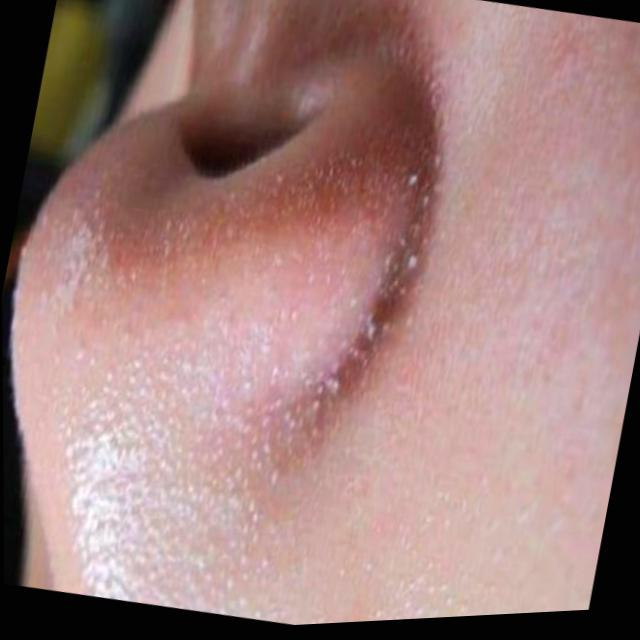whitehead: (241, 142, 457, 517)
